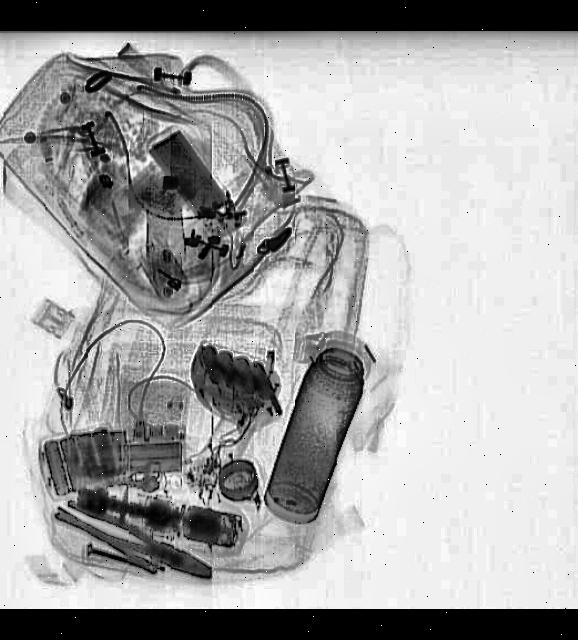Pliers: (52, 489, 218, 587)
